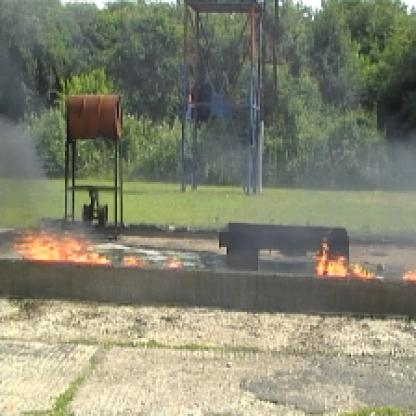Fire: (9, 225, 188, 269), (308, 240, 414, 286)
Smoke: (295, 126, 414, 238), (2, 2, 50, 212)
